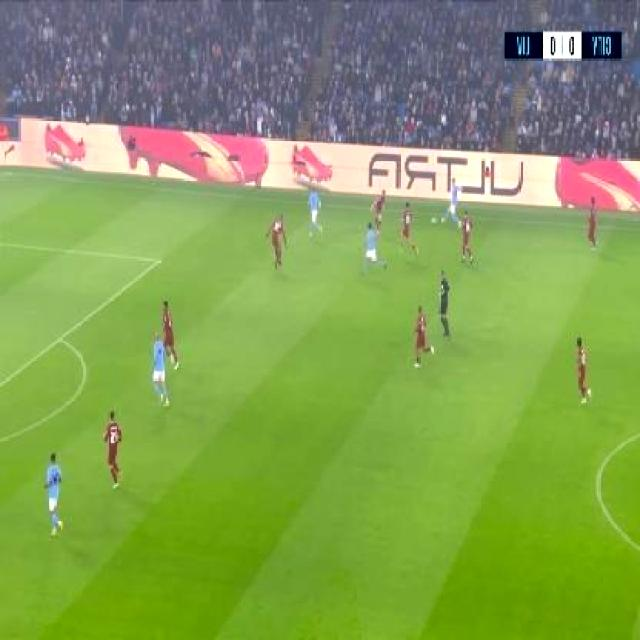bigarea_top_inner: (150, 244, 172, 276)
corner: (0, 163, 17, 182)
top_arc_area_intersection: (52, 324, 72, 350)
